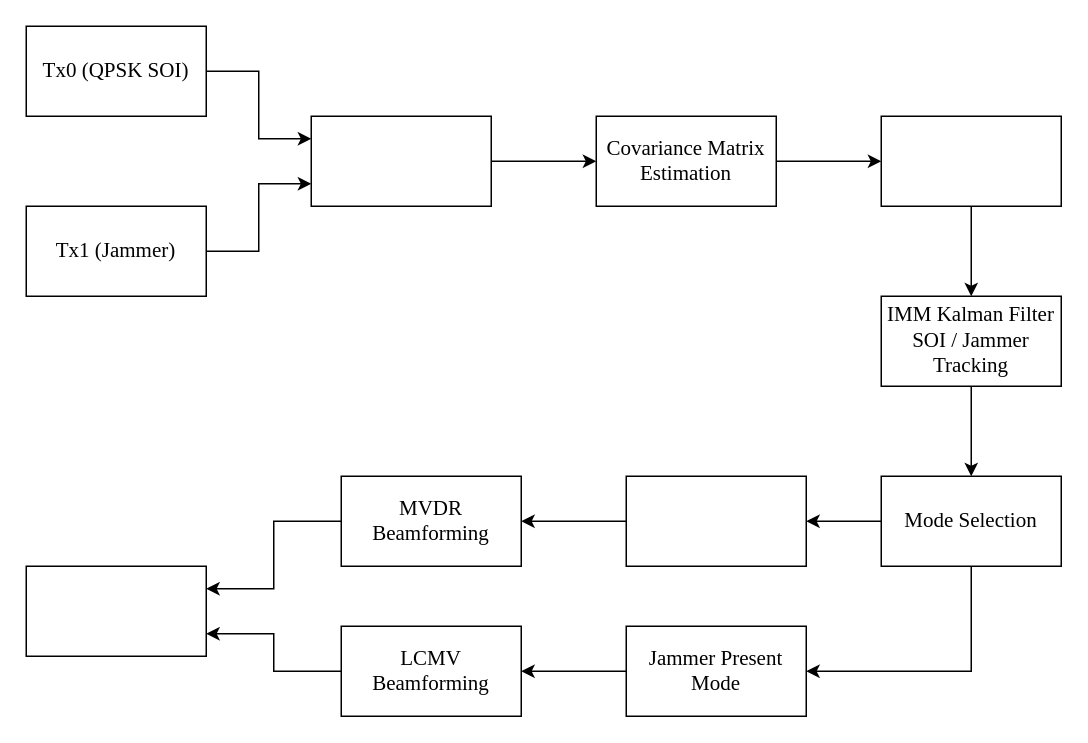
The diagram is 1088 pixels wide and 743 high, and some of its shapes have lost their labels. The centre of each missing label's shape, as x and y in pixels:
"MUSIC DoA Estimation" belongs at point 970,160.
"No Jammer Mode" belongs at point 715,520.
"Output" belongs at point 115,610.
"Two-Channel RX" belongs at point 400,160.
